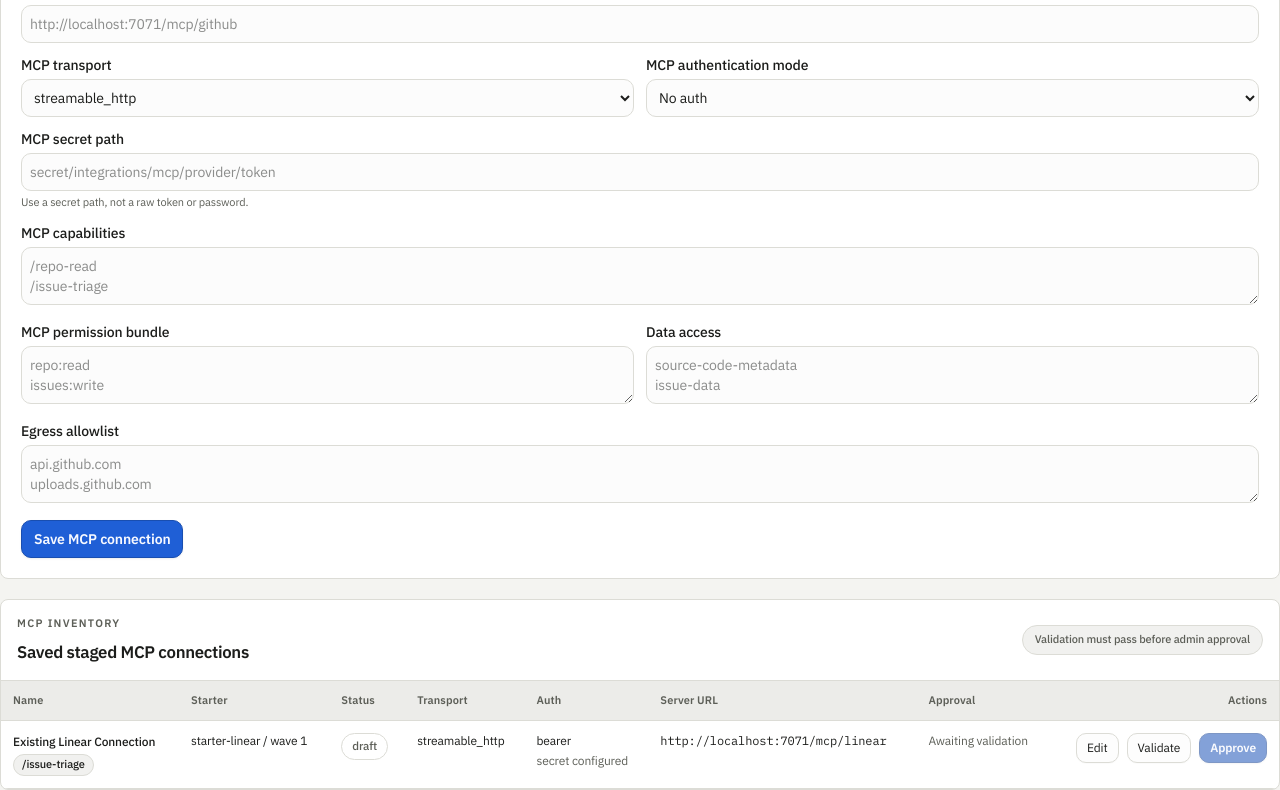
Scenario: McpConnectionsPanel › does not overwrite edit state when starter templates resolve after editing begins
The image size is (1280, 790).
(page scrolled)
Check: the text "Existing Linear Connection" is shown, box left=13, top=733, right=167, bottom=750
Click the button "Edit" at {"x": 1097, "y": 748}, box left=1076, top=733, right=1118, bottom=763
(page scrolled)
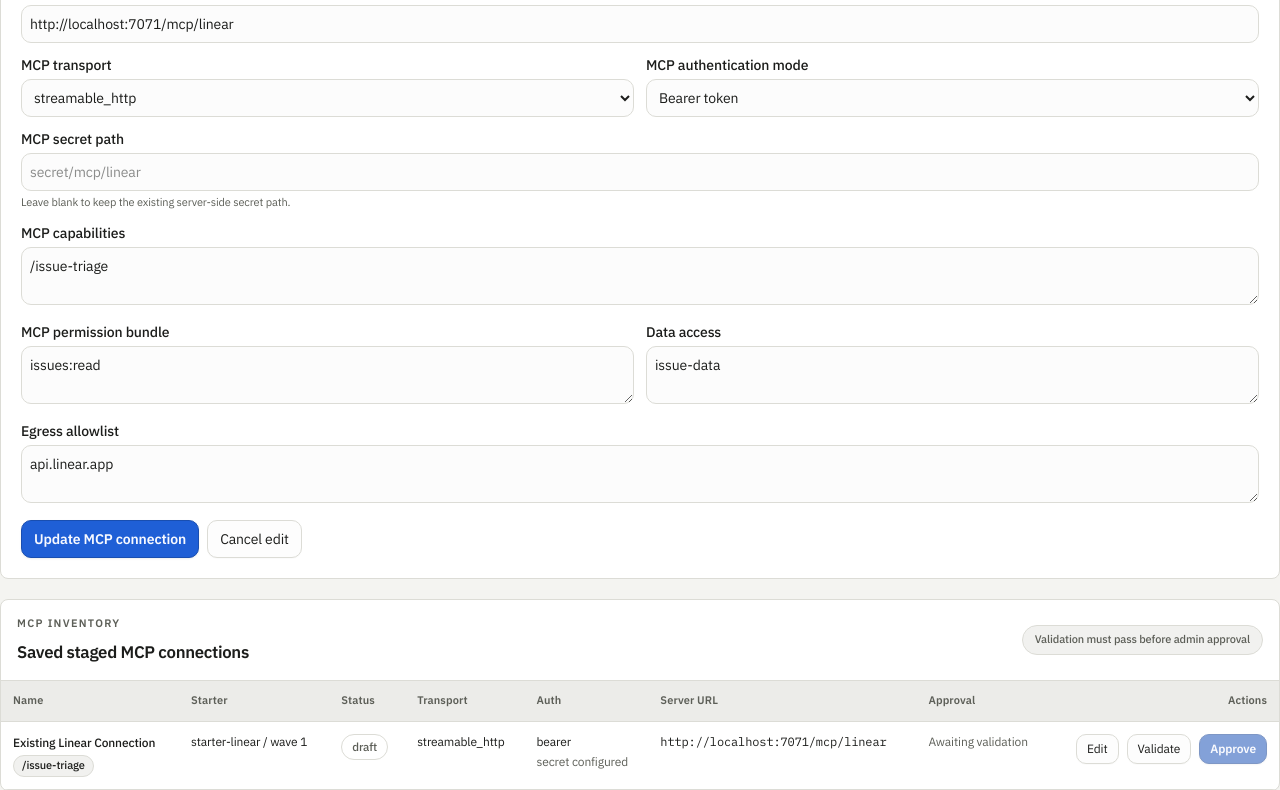
Check: the button "Cancel edit" is shown, box left=207, top=520, right=302, bottom=558
